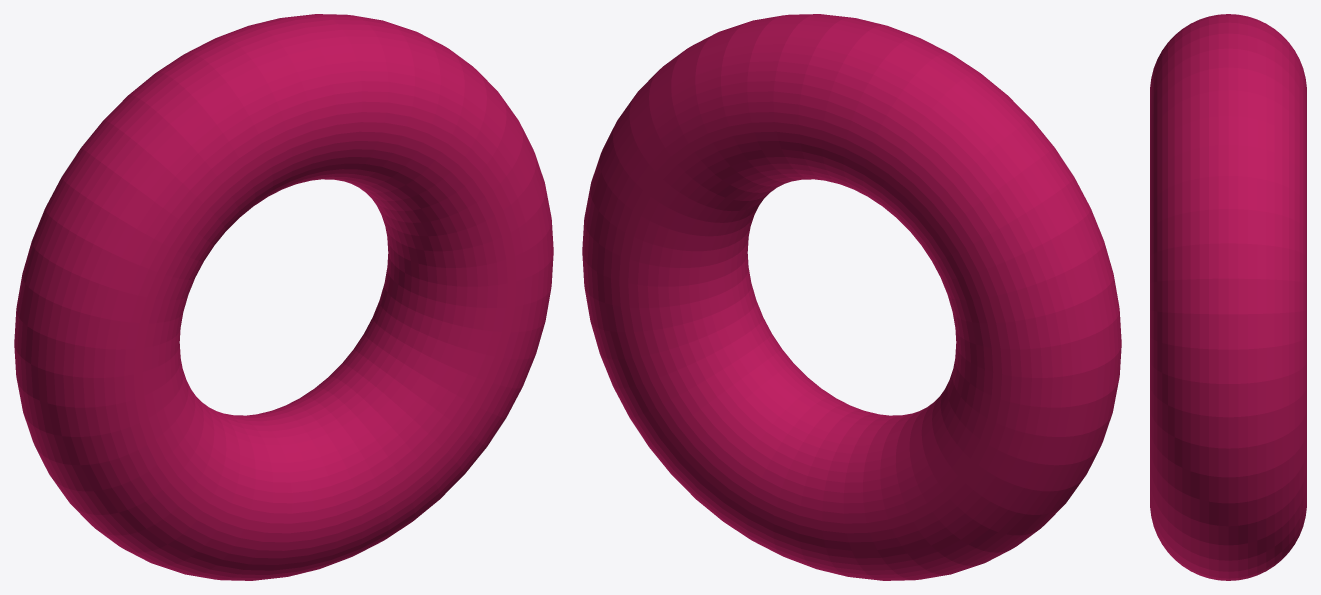
3 views of the same model, side by side, from view 1: azimuth 30°, elevation 25°; view 2: azimuth 150°, elevation 25°; view 3: azimuth 270°, elevation 25° (orthographic). The views are drawn at different scales.
Visible parts, largest first — view 1: world; view 2: world; view 3: world.
Part boxes in pixels (<box>): world: <box>14,14,553,580</box>; world: <box>582,14,1121,580</box>; world: <box>1150,14,1306,580</box>.
Bounding box in the file's own units: 33.2 × 33.13 × 9.18.
